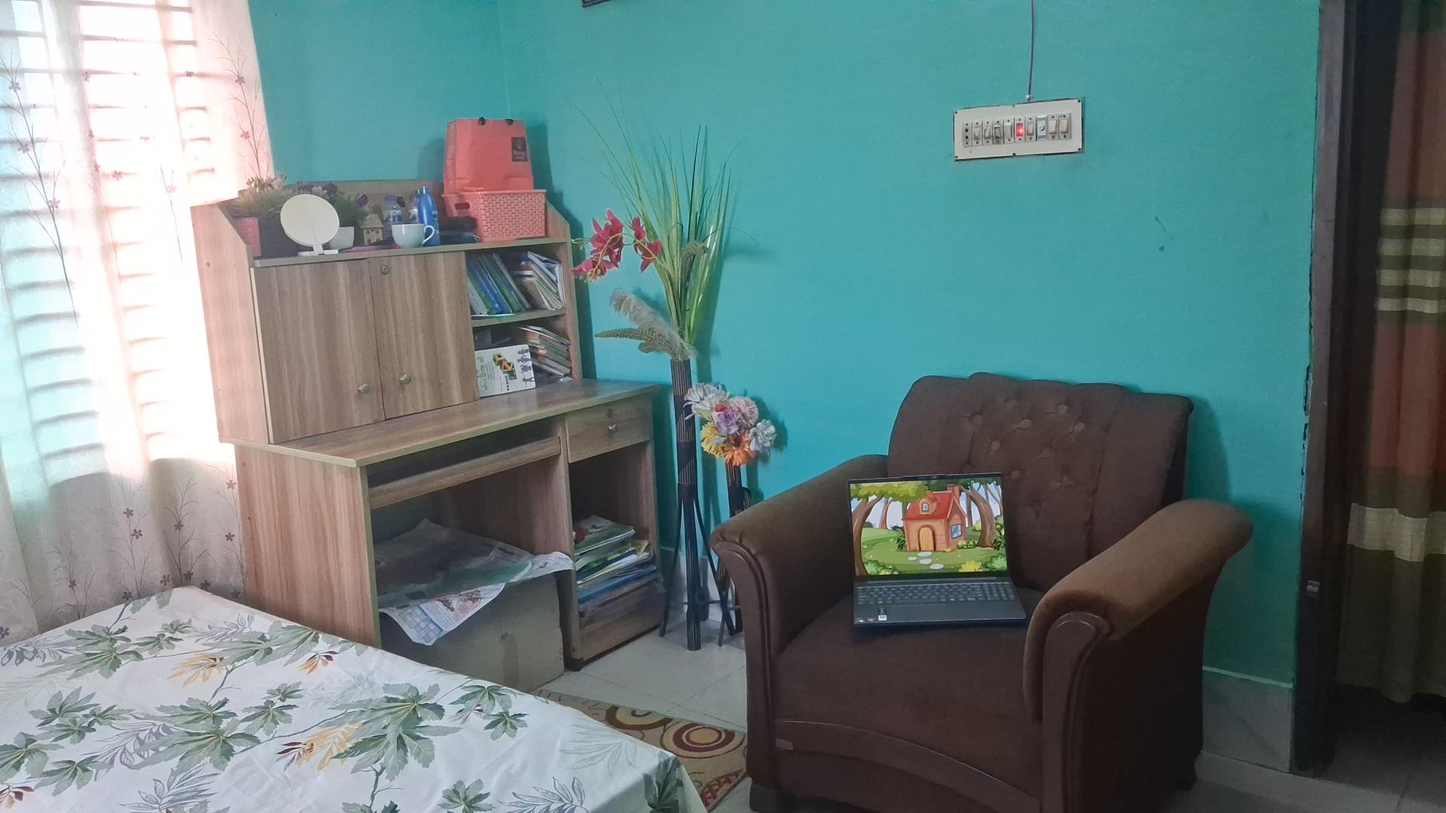Basket: (450, 187, 545, 240)
Cup: (387, 220, 439, 248)
Drawer: (565, 399, 653, 460)
Laptop: (846, 470, 1031, 636)
Table: (204, 170, 671, 669)
